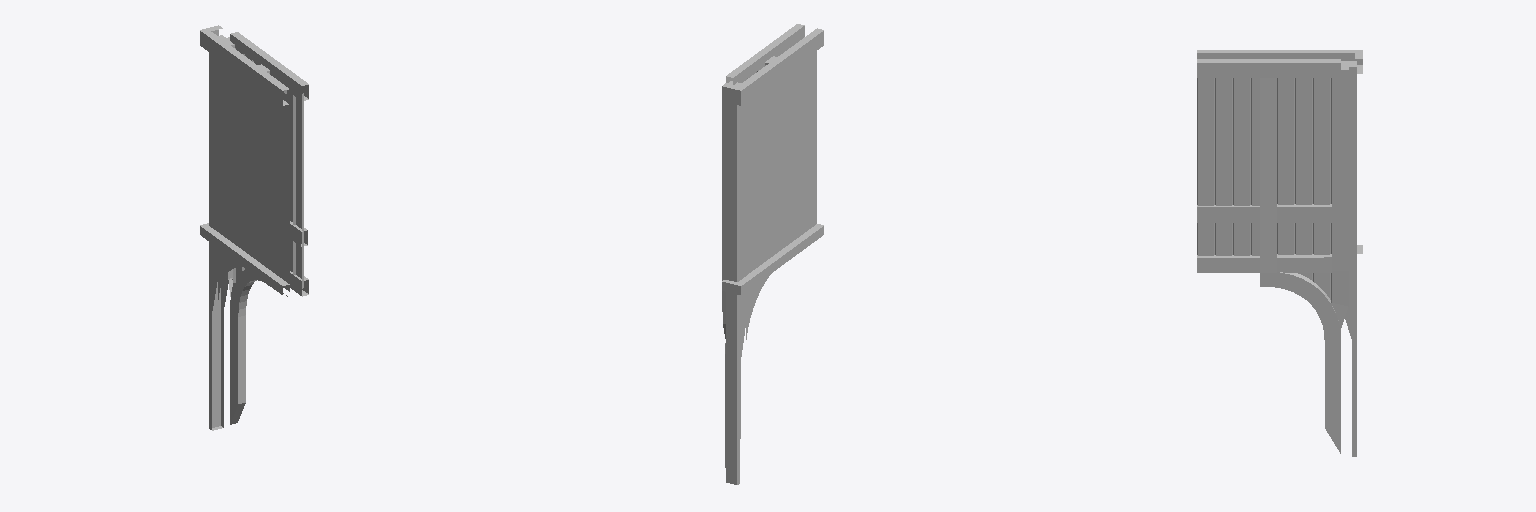
Rendered from Overhang_Side_WoodWear_Long_R.obj.
3 renders of one model, left to right at view 1: azimuth 30°, elevation 25°; view 2: azimuth 150°, elevation 25°; view 3: azimuth 270°, elevation 25°, orthographic.
Visible parts, largest first — view 1: Overhang_Side_WoodWear_Long_R; view 2: Overhang_Side_WoodWear_Long_R; view 3: Overhang_Side_WoodWear_Long_R.
Part boxes in pixels (left/top/right/bottom): Overhang_Side_WoodWear_Long_R: left=200, top=25, right=308, bottom=430; Overhang_Side_WoodWear_Long_R: left=722, top=24, right=823, bottom=484; Overhang_Side_WoodWear_Long_R: left=1197, top=50, right=1362, bottom=456.
Bounding box in the file's own units: 0.4793 × 6.12 × 2.31.